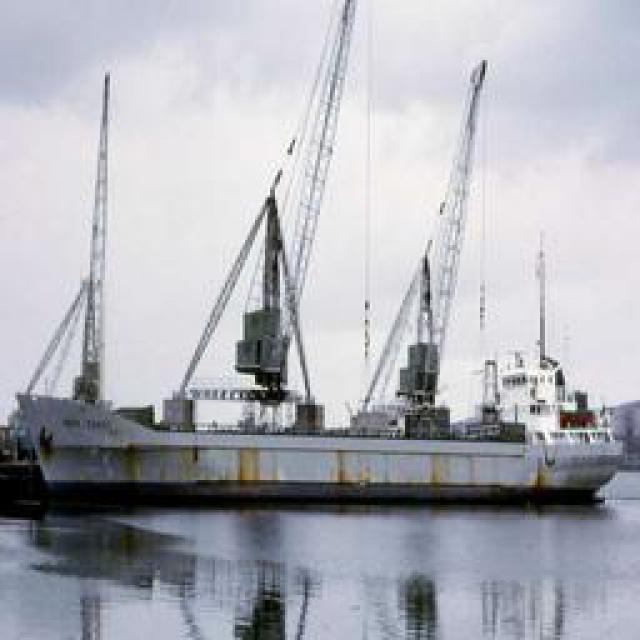Ship: (19, 31, 632, 499)
